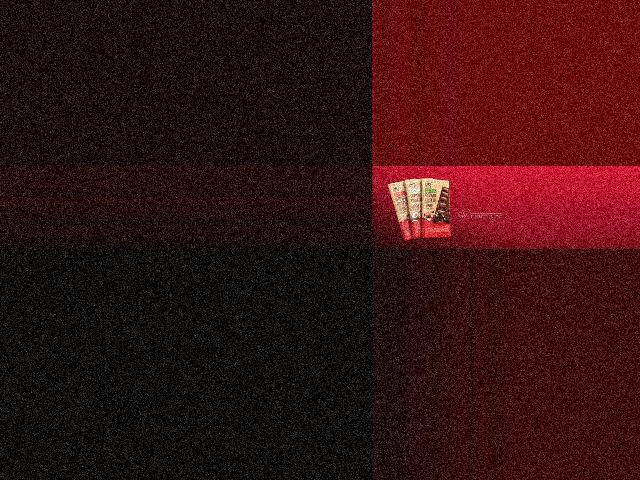chocolate: (388, 177, 418, 243)
